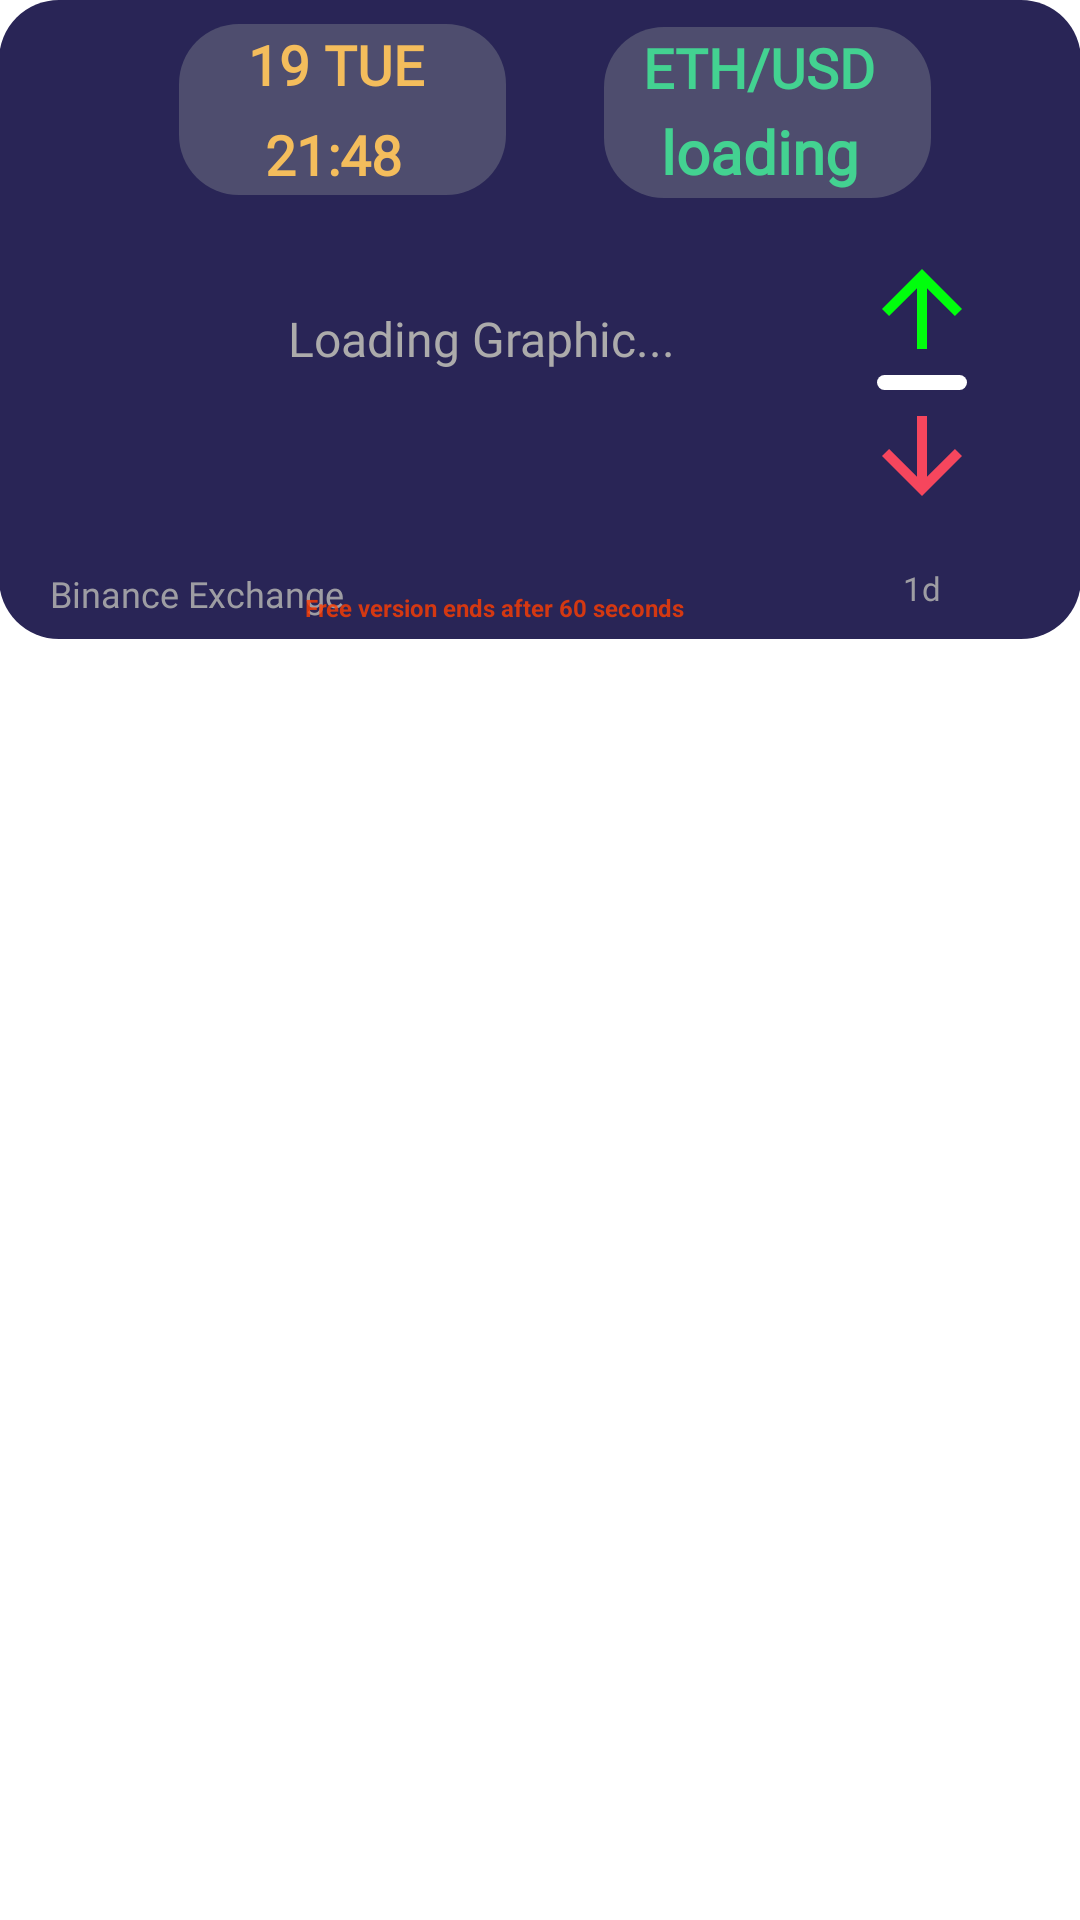

Locate icon controls on the screen. Image size 1080w x 1920h, boxes as (x1, y1, x2, y2).
arrow downward: (882, 416, 962, 496)
arrow upward: (882, 269, 962, 349)
